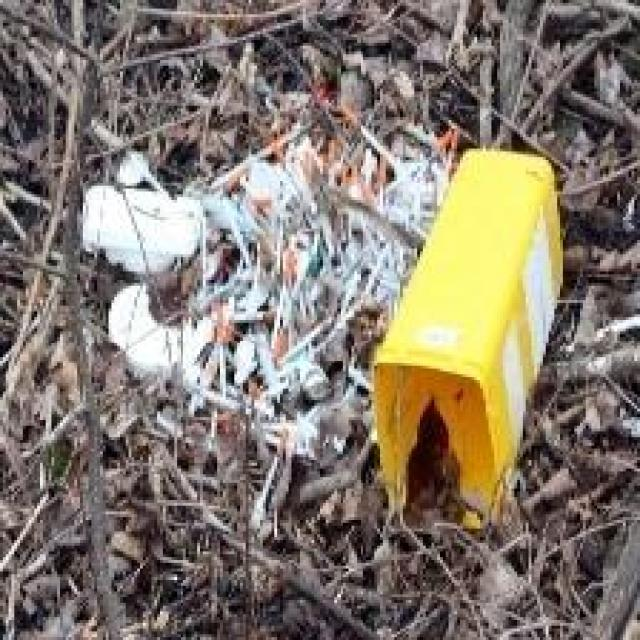syringe: (136, 96, 452, 536)
